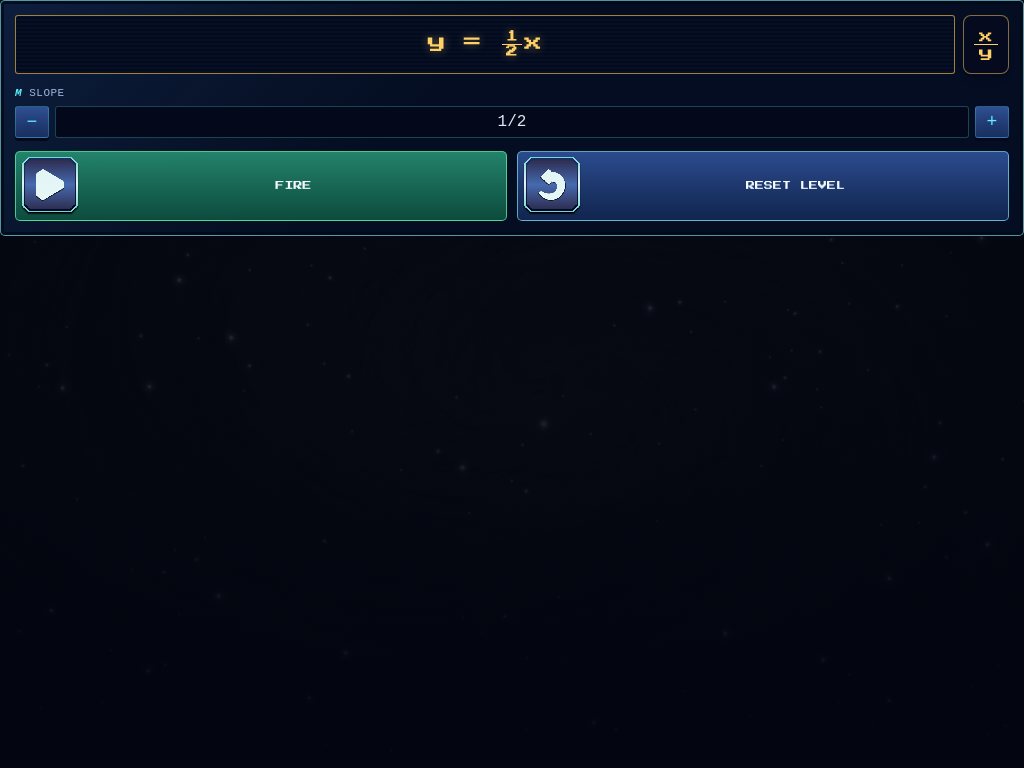
Test case: EquationControls notation › toggles display notation via the button
Expected: the element with class "frac" showing "x y" is shown, [974,29,998,60]
Click the button with class "notation-toggle" at point(986, 45), box [963,15,1009,74]
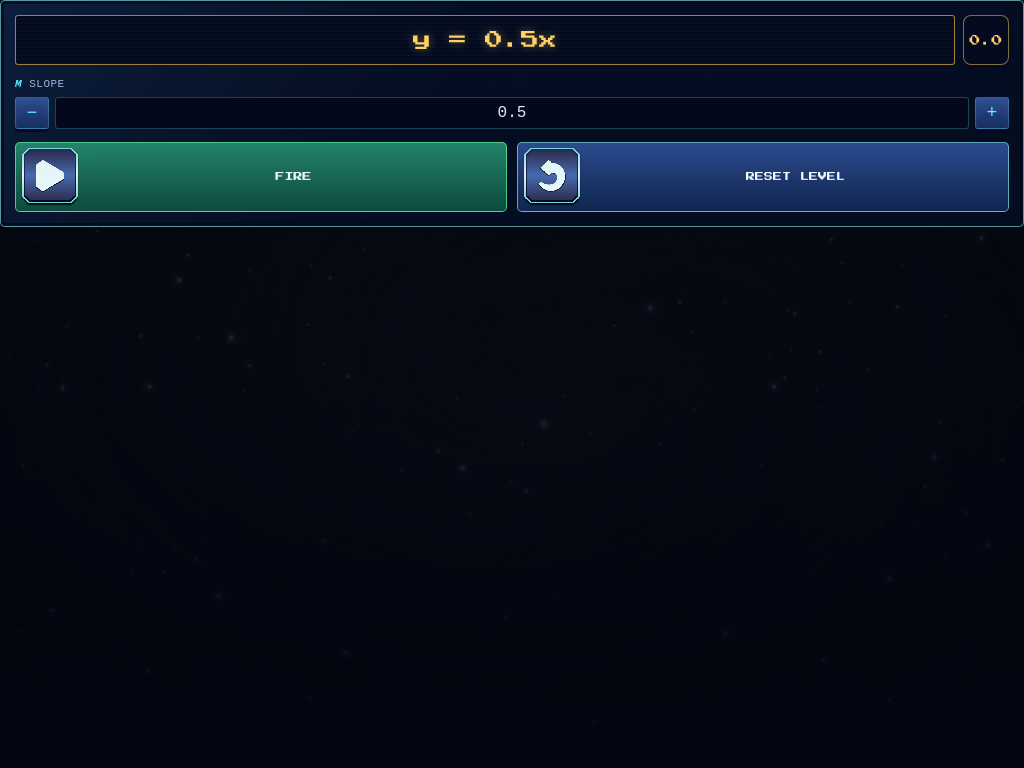
Expected: the text with class "notation-toggle__decimal" reads "0.0", [970,34,1002,46]
Expected: the field named "slope" holds "0.5", [55,97,969,129]
